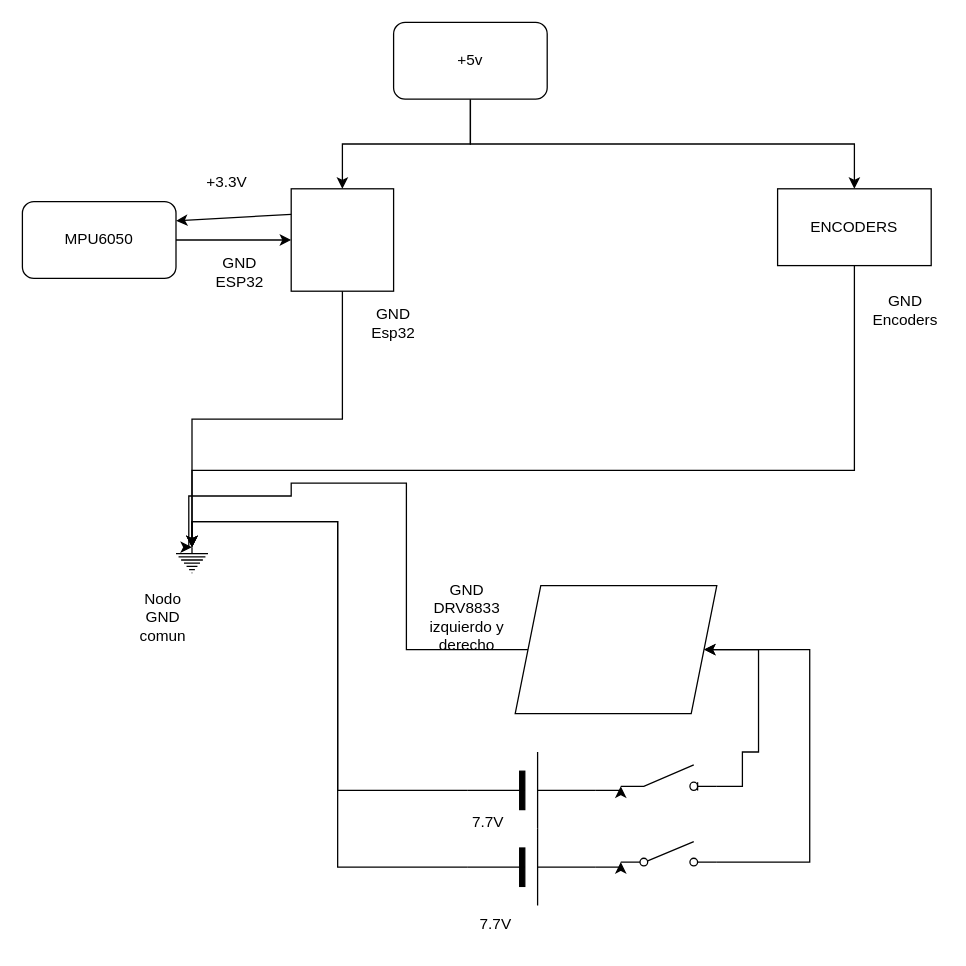
This 966x966 diagram has some shape labels left out. The box of each missing label's shape, as (x1, y1, x2, y2) in pixels:
DRV8833 zona de potencia: (514, 584, 717, 714)
ESP32: (290, 188, 394, 291)
